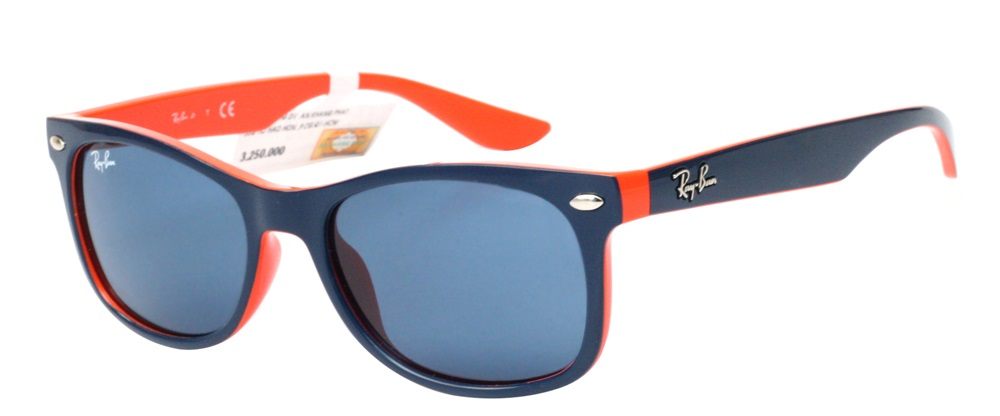Rayban: (660, 155, 731, 209), (81, 140, 124, 182)
